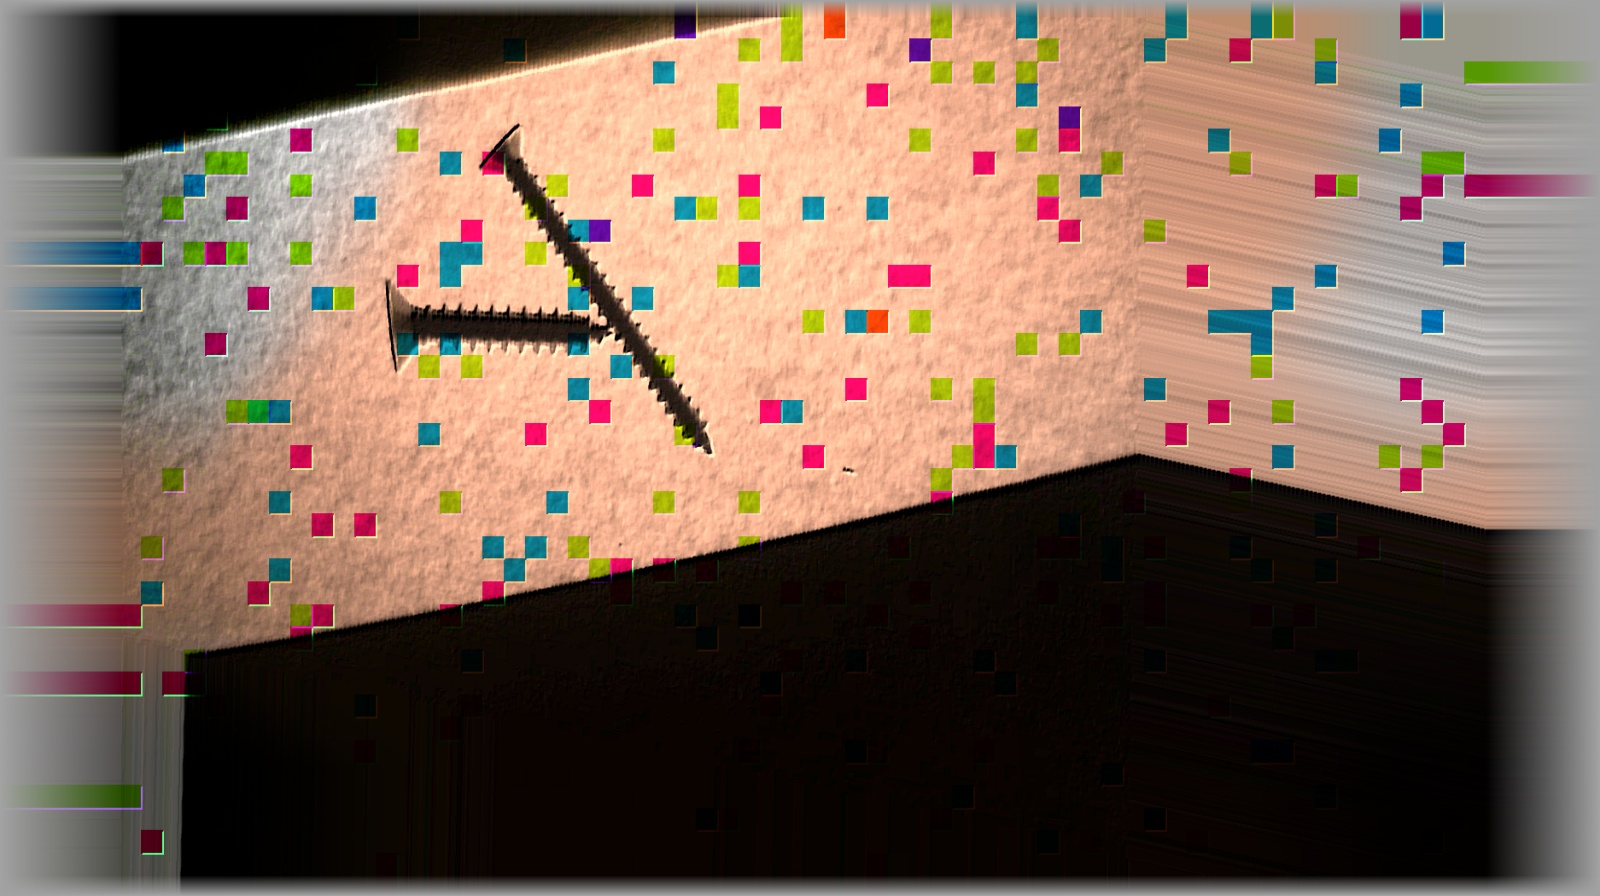S001: (384, 272, 610, 425)
S002: (471, 109, 724, 460)
